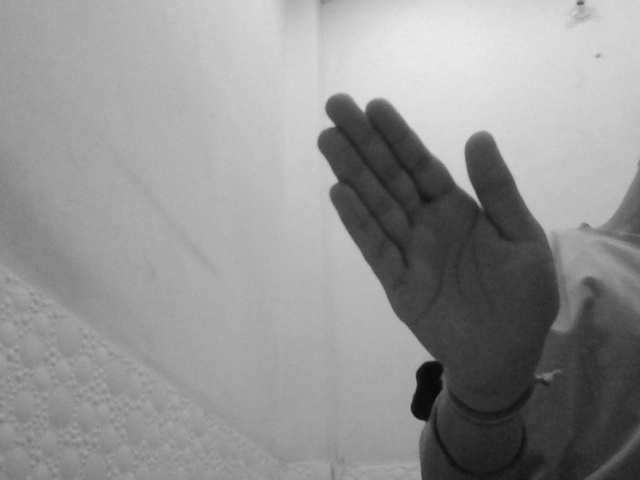Hello: (314, 90, 562, 384)
